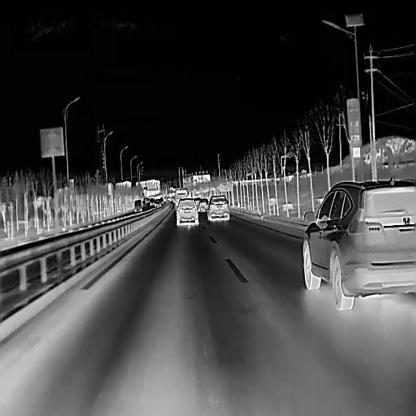car: (300, 178, 415, 311), (174, 197, 198, 226), (205, 194, 229, 220), (174, 188, 189, 211), (196, 197, 208, 211), (133, 199, 143, 211), (154, 199, 161, 207), (149, 198, 154, 206)
